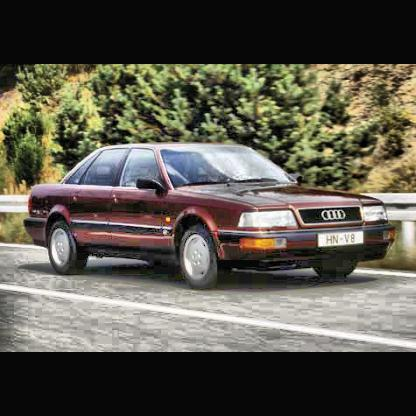Audi V8 Sedan 1994: (23, 142, 399, 289)
